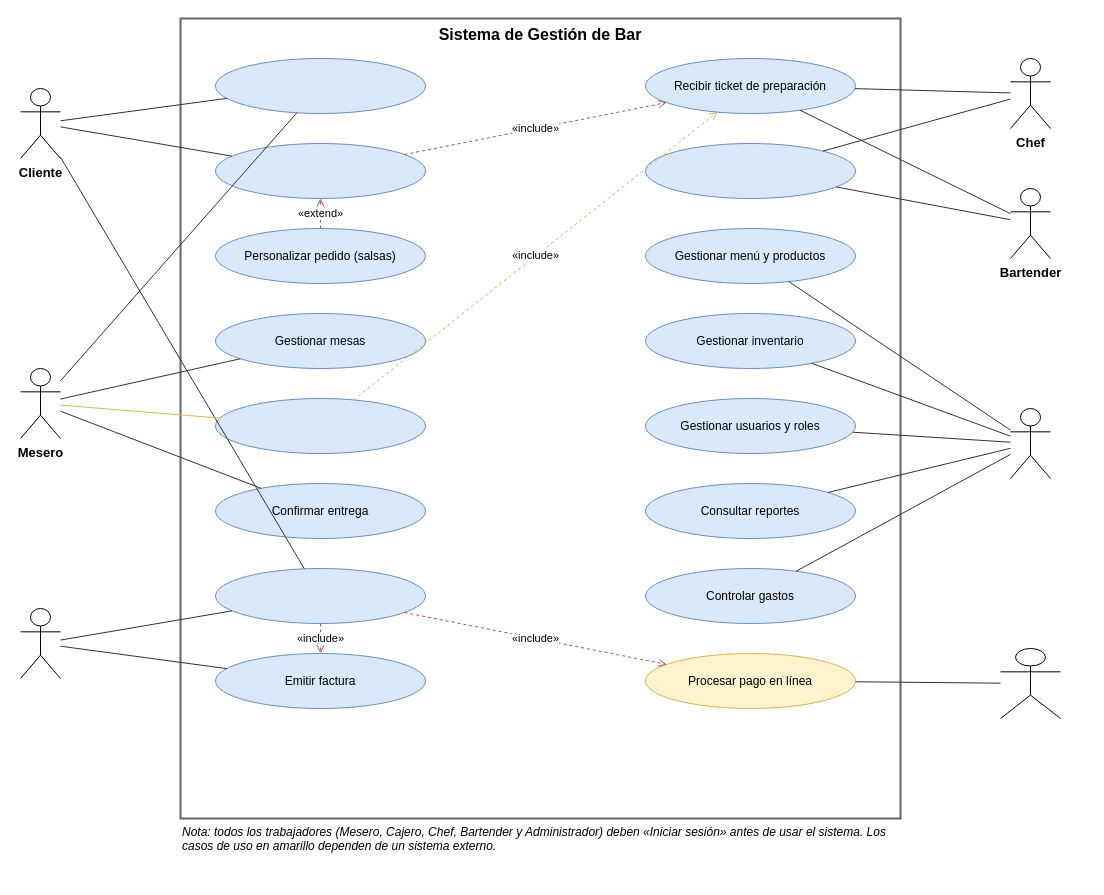
Some shapes in this 1104 by 895 pixel diagram are drawn without their labels. The centre of each missing label's shape, as x and y in pixels:
Administrador: the point at 1030,443
Cajero: the point at 40,643
Consultar menú y combos: the point at 320,86
Marcar pedido como listo: the point at 750,170
Pagar cuenta: the point at 320,596
Pasarela de pago (PayPal / Deuna) «sistema externo»: the point at 1030,683
Realizar pedido: the point at 320,170
Registrar pedido por mesa: the point at 320,426
